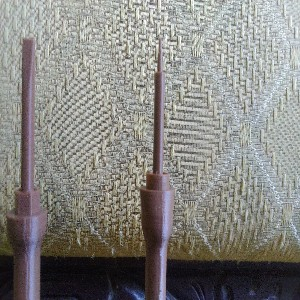obeng: (6, 36, 47, 300)
solder: (139, 39, 175, 300)
